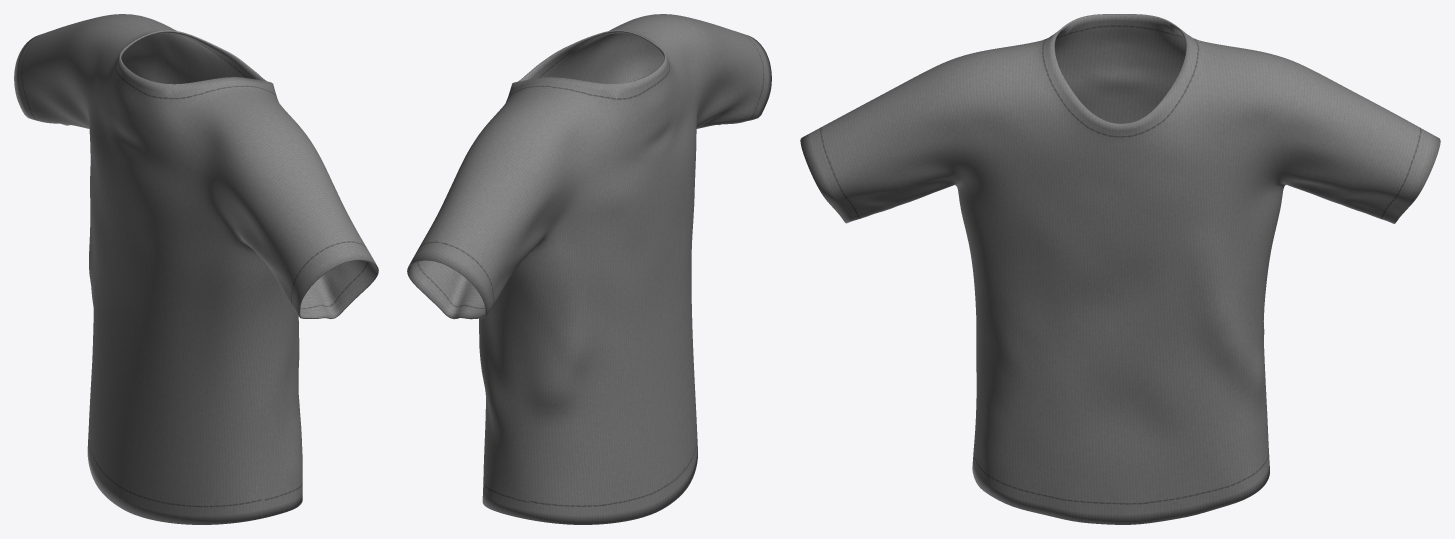
File: shirt.glb
The picture shows the model from 3 angles, left to right: view 1: azimuth 30°, elevation 25°; view 2: azimuth 150°, elevation 25°; view 3: azimuth 270°, elevation 25°; orthographic projection. The views are drawn at different scales.
Visible parts, largest first — view 1: Shirt.003; view 2: Shirt.003; view 3: Shirt.003.
Part boxes in pixels (bbox=[...]): Shirt.003: bbox=[14, 14, 378, 524]; Shirt.003: bbox=[407, 14, 771, 524]; Shirt.003: bbox=[800, 14, 1440, 524].
Bounding box in the file's own units: 1.14 × 3.08 × 4.01.
Materials: 3 (3 with a texture image).
